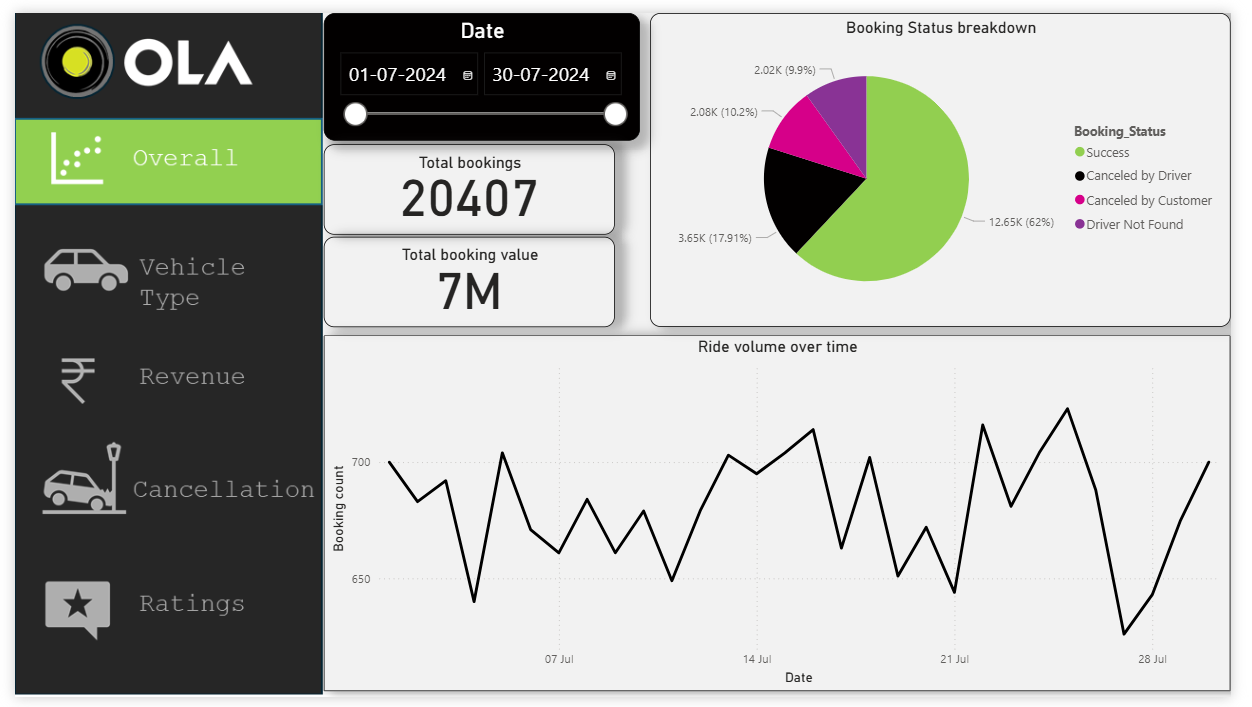

This screenshot's page, from the dashboard's own definition file:
{"tool":"powerbi","page":{"name":"overall","canvas":[1280,720],"ordinal":0},"visuals":[{"type":"actionButton","box":[0,229.1,325.3,92.4],"z":0},{"type":"actionButton","box":[0,339.2,325.3,92.4],"z":1000},{"type":"actionButton","box":[0,448.1,325.3,92.4],"z":2000},{"type":"actionButton","box":[0,574.7,325.3,92.4],"z":3000},{"type":"lineChart","title":"Ride volume over time","fields":{"Y":["CountNonNull(July.Booking_ID)"],"Category":["July.Date"]},"box":[325.3,339.2,954.4,374.7],"z":4000},{"type":"pieChart","title":"Booking Status breakdown","fields":{"Category":["July.Booking_Status"],"Y":["CountNonNull(July.Booking_Status)"]},"box":[668.4,0,611.4,330.4],"z":5000},{"type":"slicer","title":"Date","fields":{"Values":["July.Date"]},"box":[325.3,0,332.9,134.2],"z":6000},{"type":"card","title":"Total bookings","fields":{"Values":["CountNonNull(July.Booking_ID)"]},"box":[325.3,138,306.3,94.9],"z":7000},{"type":"card","title":"Total booking value","fields":{"Values":["Sum(July.Booking_Value)"]},"box":[325.3,235.4,306.3,94.9],"z":8000}]}

Visuals, with their boxes in screenshot pixels (x1, y1, x2, y2), scaled from the page's 1280x720 canvas onto the 1252x707 screenshot:
actionButton: bbox=(0, 225, 318, 316)
actionButton: bbox=(0, 333, 318, 424)
actionButton: bbox=(0, 440, 318, 531)
actionButton: bbox=(0, 564, 318, 655)
"Ride volume over time" lineChart: bbox=(318, 333, 1251, 701)
"Booking Status breakdown" pieChart: bbox=(654, 0, 1251, 324)
"Date" slicer: bbox=(318, 0, 644, 132)
"Total bookings" card: bbox=(318, 136, 618, 229)
"Total booking value" card: bbox=(318, 231, 618, 324)
